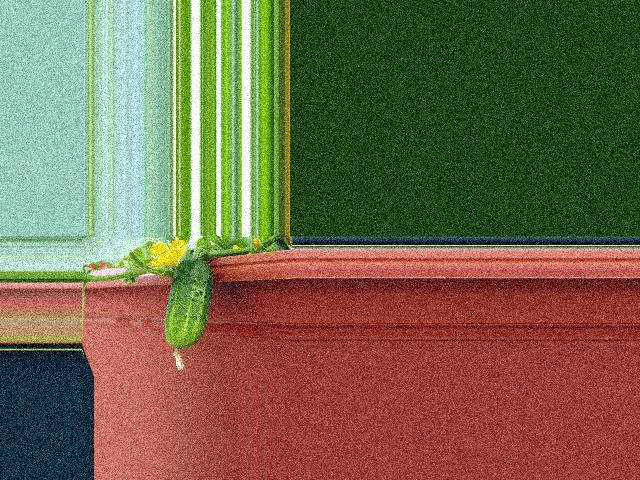cucumber: (164, 258, 212, 371)
